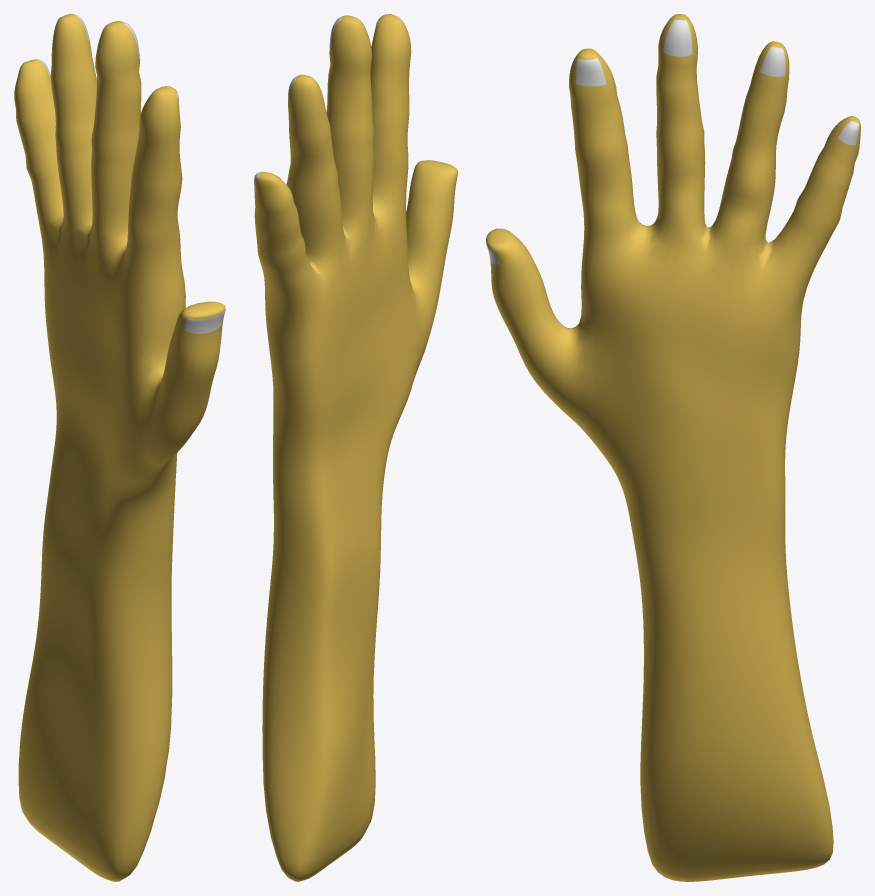
File: RightHand.fbx
The picture shows the model from 3 angles, left to right: view 1: azimuth 30°, elevation 25°; view 2: azimuth 150°, elevation 25°; view 3: azimuth 270°, elevation 25°; orthographic projection. The views are drawn at different scales.
Visible parts, largest first — view 1: RightHand; view 2: RightHand; view 3: RightHand.
Boxes of the visible parts, x1,y1,x2,y2 form: RightHand: (14,14,225,881); RightHand: (254,14,457,881); RightHand: (486,14,860,881).
Bounding box in the file's own units: 67.23 × 574 × 225.
